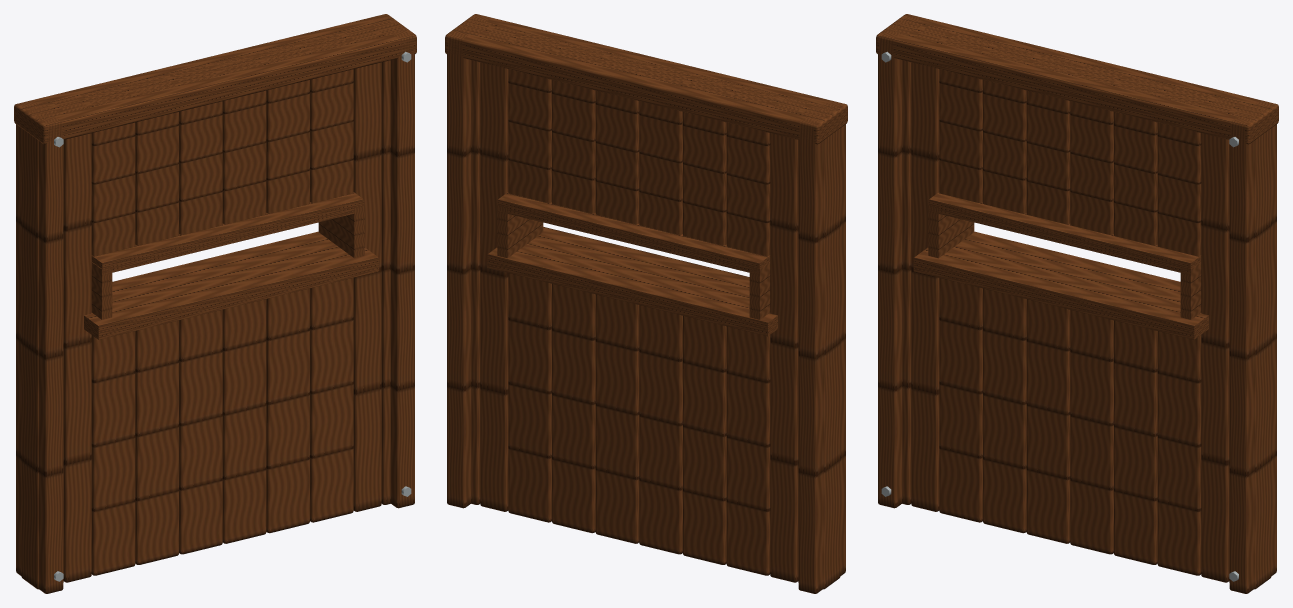
File: fortified-compound-expansion-gatehouse-side-wall-68373001__27103.glb
The picture shows the model from 3 angles, left to right: view 1: azimuth 30°, elevation 25°; view 2: azimuth 150°, elevation 25°; view 3: azimuth 330°, elevation 25°; orthographic projection.
Visible parts, largest first — view 1: gatehouse-side-wall; view 2: gatehouse-side-wall; view 3: gatehouse-side-wall.
Part boxes in pixels (bbox=[...]): gatehouse-side-wall: bbox=[14, 14, 416, 593]; gatehouse-side-wall: bbox=[445, 14, 847, 593]; gatehouse-side-wall: bbox=[876, 14, 1278, 593].
Size of the model in its own units: 2 by 2.4 by 0.39.
Materials: 2 (1 with a texture image).
